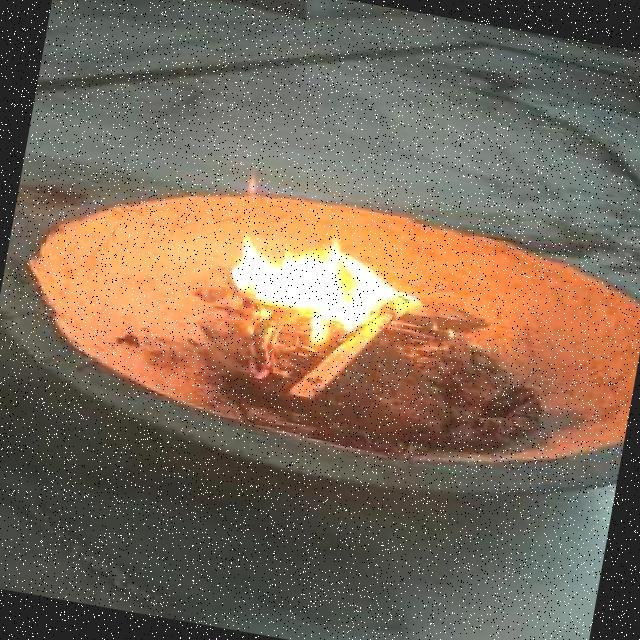Fire: (171, 179, 427, 375)
